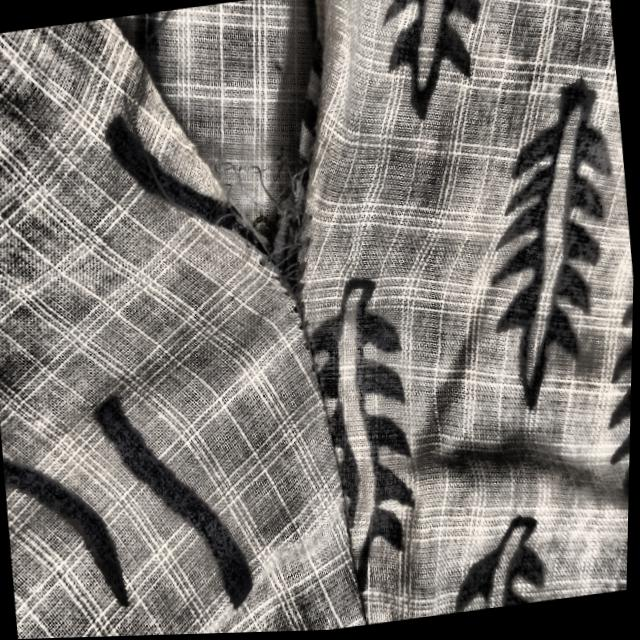Stitch: (83, 0, 401, 337)
